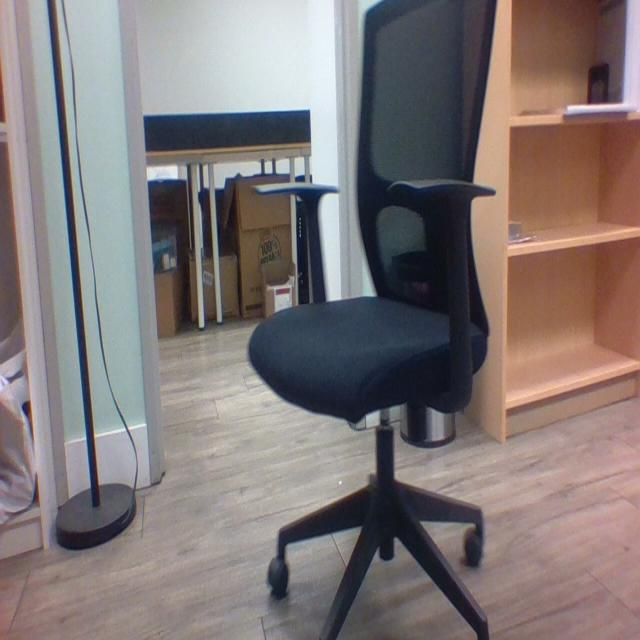black-chair: (246, 0, 502, 639)
